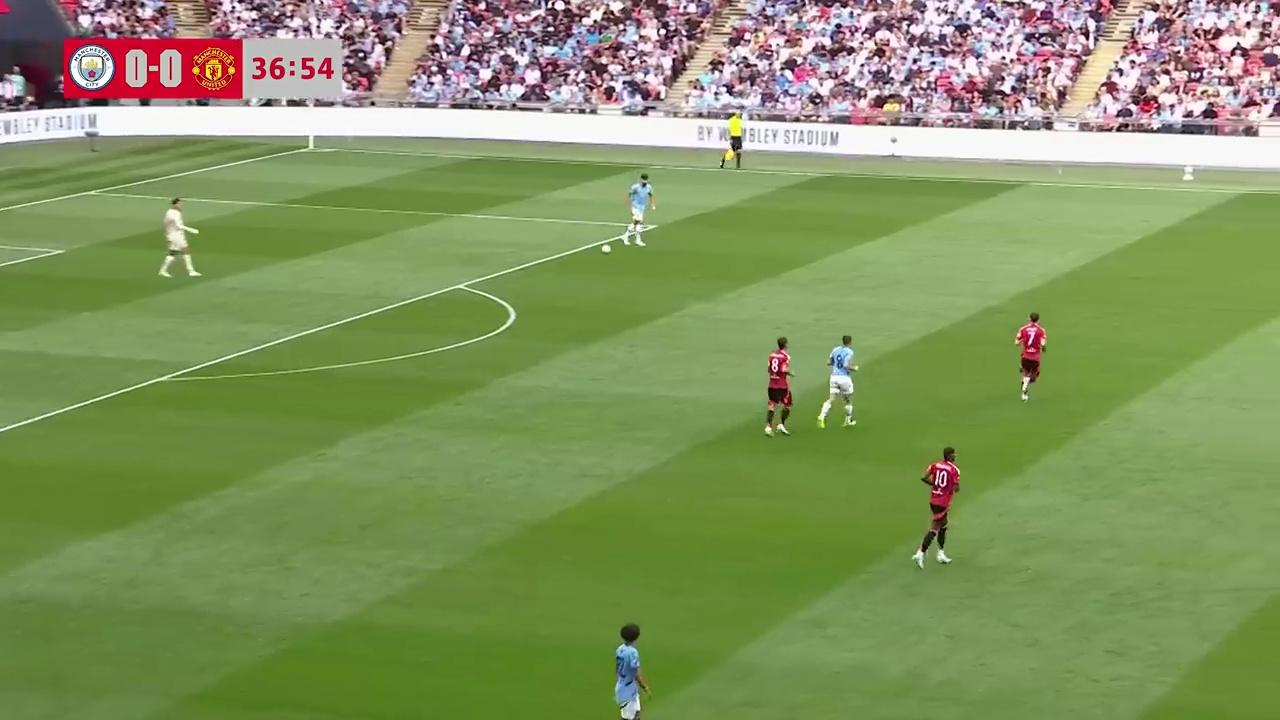ball: (600, 240, 612, 255)
player: (915, 446, 960, 567), (817, 335, 858, 428), (613, 622, 651, 720), (158, 197, 201, 278), (764, 337, 794, 437), (1014, 312, 1046, 402), (621, 169, 655, 247)
referee: (718, 112, 746, 171)
